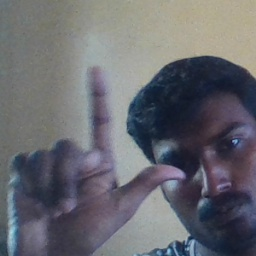L: (7, 66, 187, 256)
